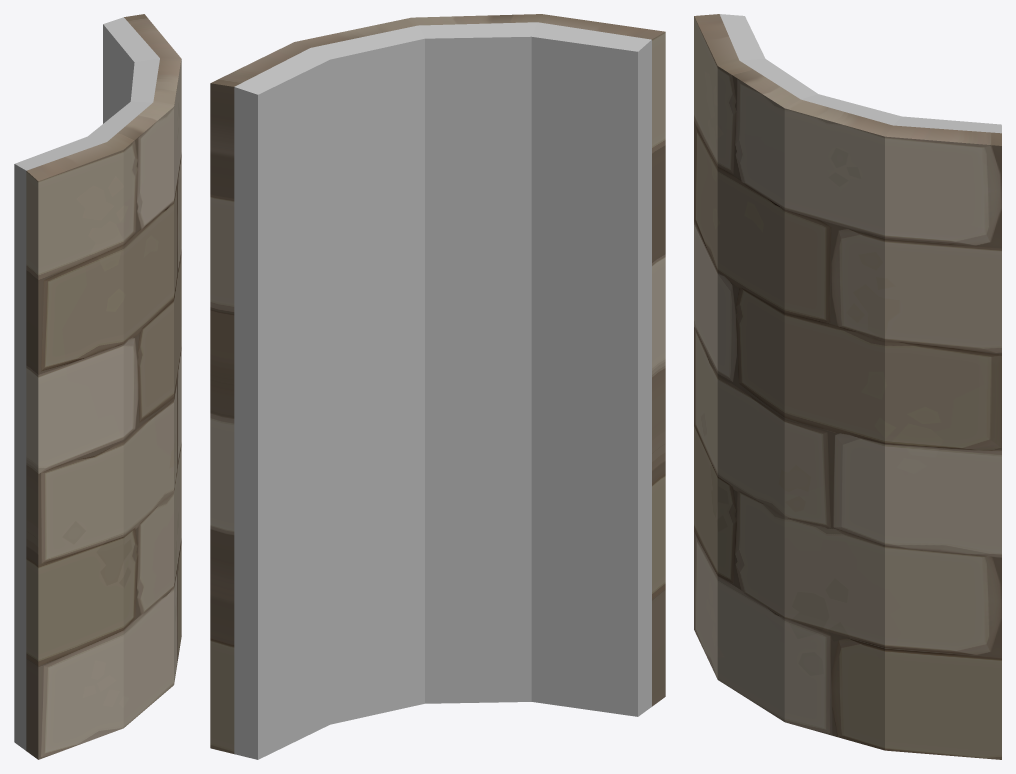
The model's file is SM_Bld_Wall_Curved_Small_01.fbx.
3 views of the same model, side by side, from view 1: azimuth 30°, elevation 25°; view 2: azimuth 150°, elevation 25°; view 3: azimuth 270°, elevation 25° (orthographic). The views are drawn at different scales.
Visible parts, largest first — view 1: SM_Bld_Wall_Curved_Small_01; view 2: SM_Bld_Wall_Curved_Small_01; view 3: SM_Bld_Wall_Curved_Small_01.
Boxes of the visible parts, box(x1,y1,x2,y2) form: SM_Bld_Wall_Curved_Small_01: box(14, 14, 181, 759); SM_Bld_Wall_Curved_Small_01: box(210, 14, 665, 759); SM_Bld_Wall_Curved_Small_01: box(694, 14, 1001, 759).
Bounding box in the file's own units: 136 × 301 × 136.
